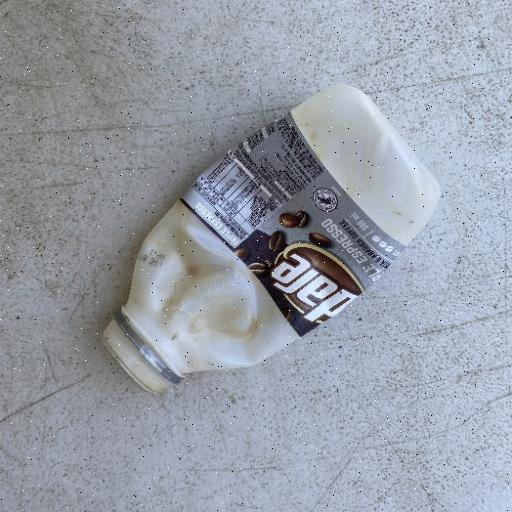Plastic: (98, 82, 442, 396)
